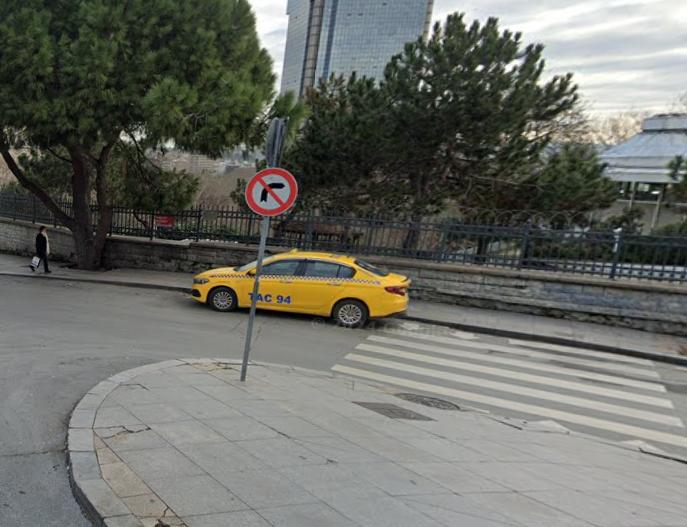rightturnsareforbidden: (249, 169, 295, 218)
